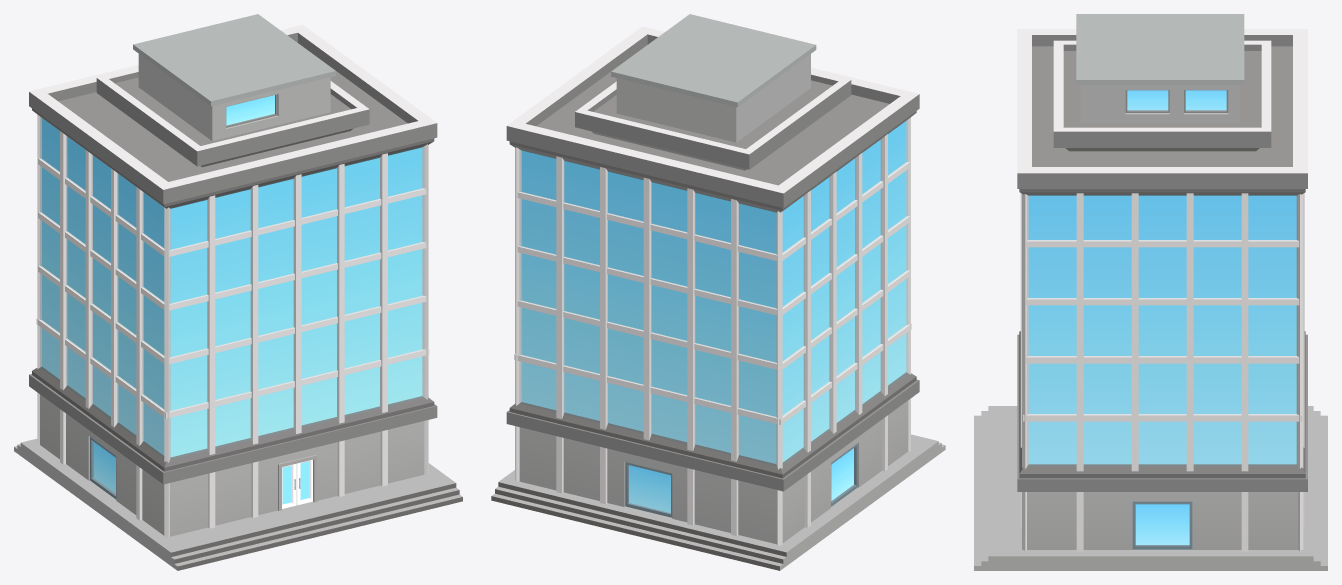
The model's file is city2-building-business-10.glb.
3 renders of one model, left to right at view 1: azimuth 30°, elevation 25°; view 2: azimuth 150°, elevation 25°; view 3: azimuth 270°, elevation 25°, orthographic. The views are drawn at different scales.
Visible parts, largest first — view 1: Building_Business_10; view 2: Building_Business_10; view 3: Building_Business_10.
Part boxes in pixels (x1,y1,x2,y2): Building_Business_10: [14, 14, 462, 570]; Building_Business_10: [491, 14, 945, 570]; Building_Business_10: [974, 14, 1327, 570].
Bounding box in the file's own units: 14.88 × 20.7 × 14.78.
2 materials, 2 textured.
